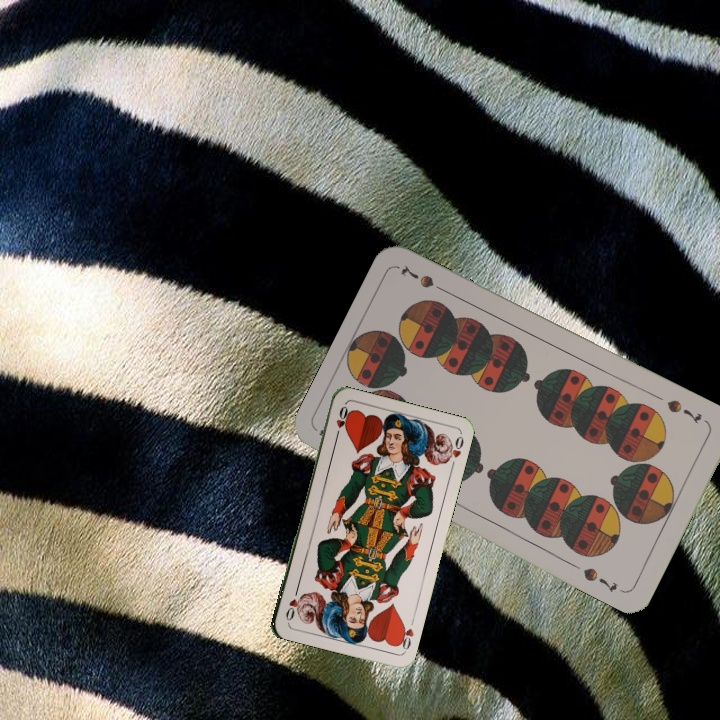HO: (394, 620, 416, 654), (332, 402, 350, 441)
S7: (663, 395, 704, 427)
